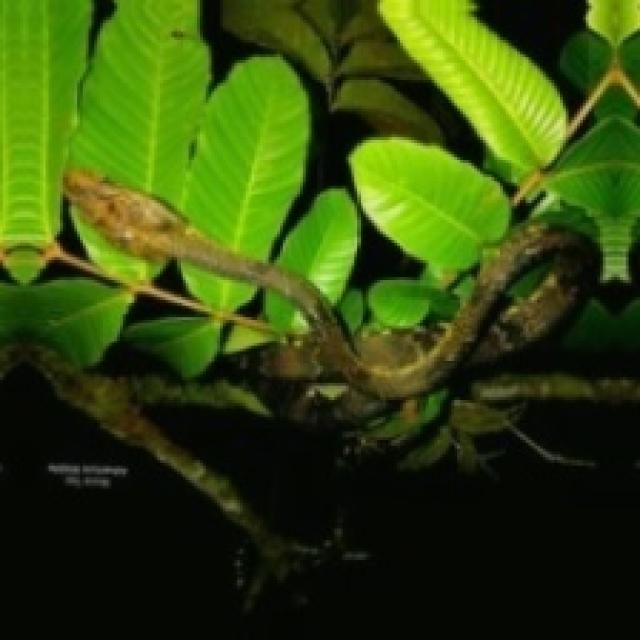dog-toothed cat snake: (63, 169, 580, 397)
